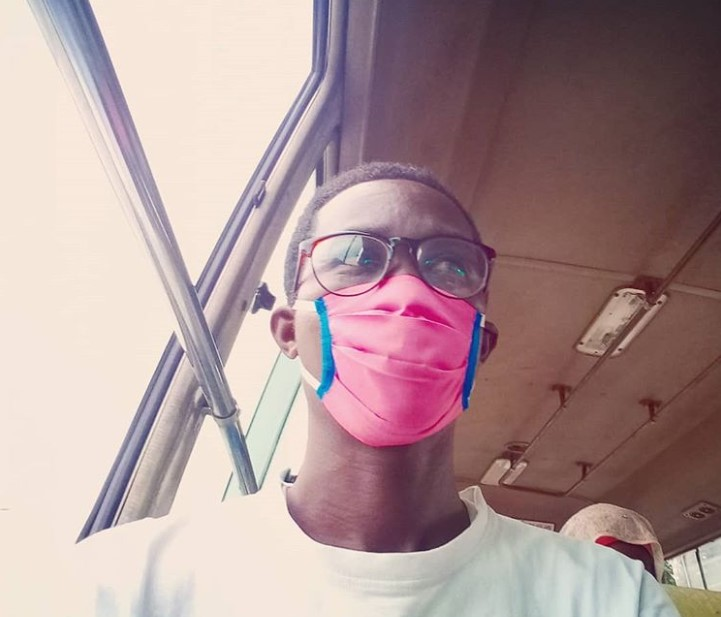face_with_mask: (282, 163, 493, 450)
